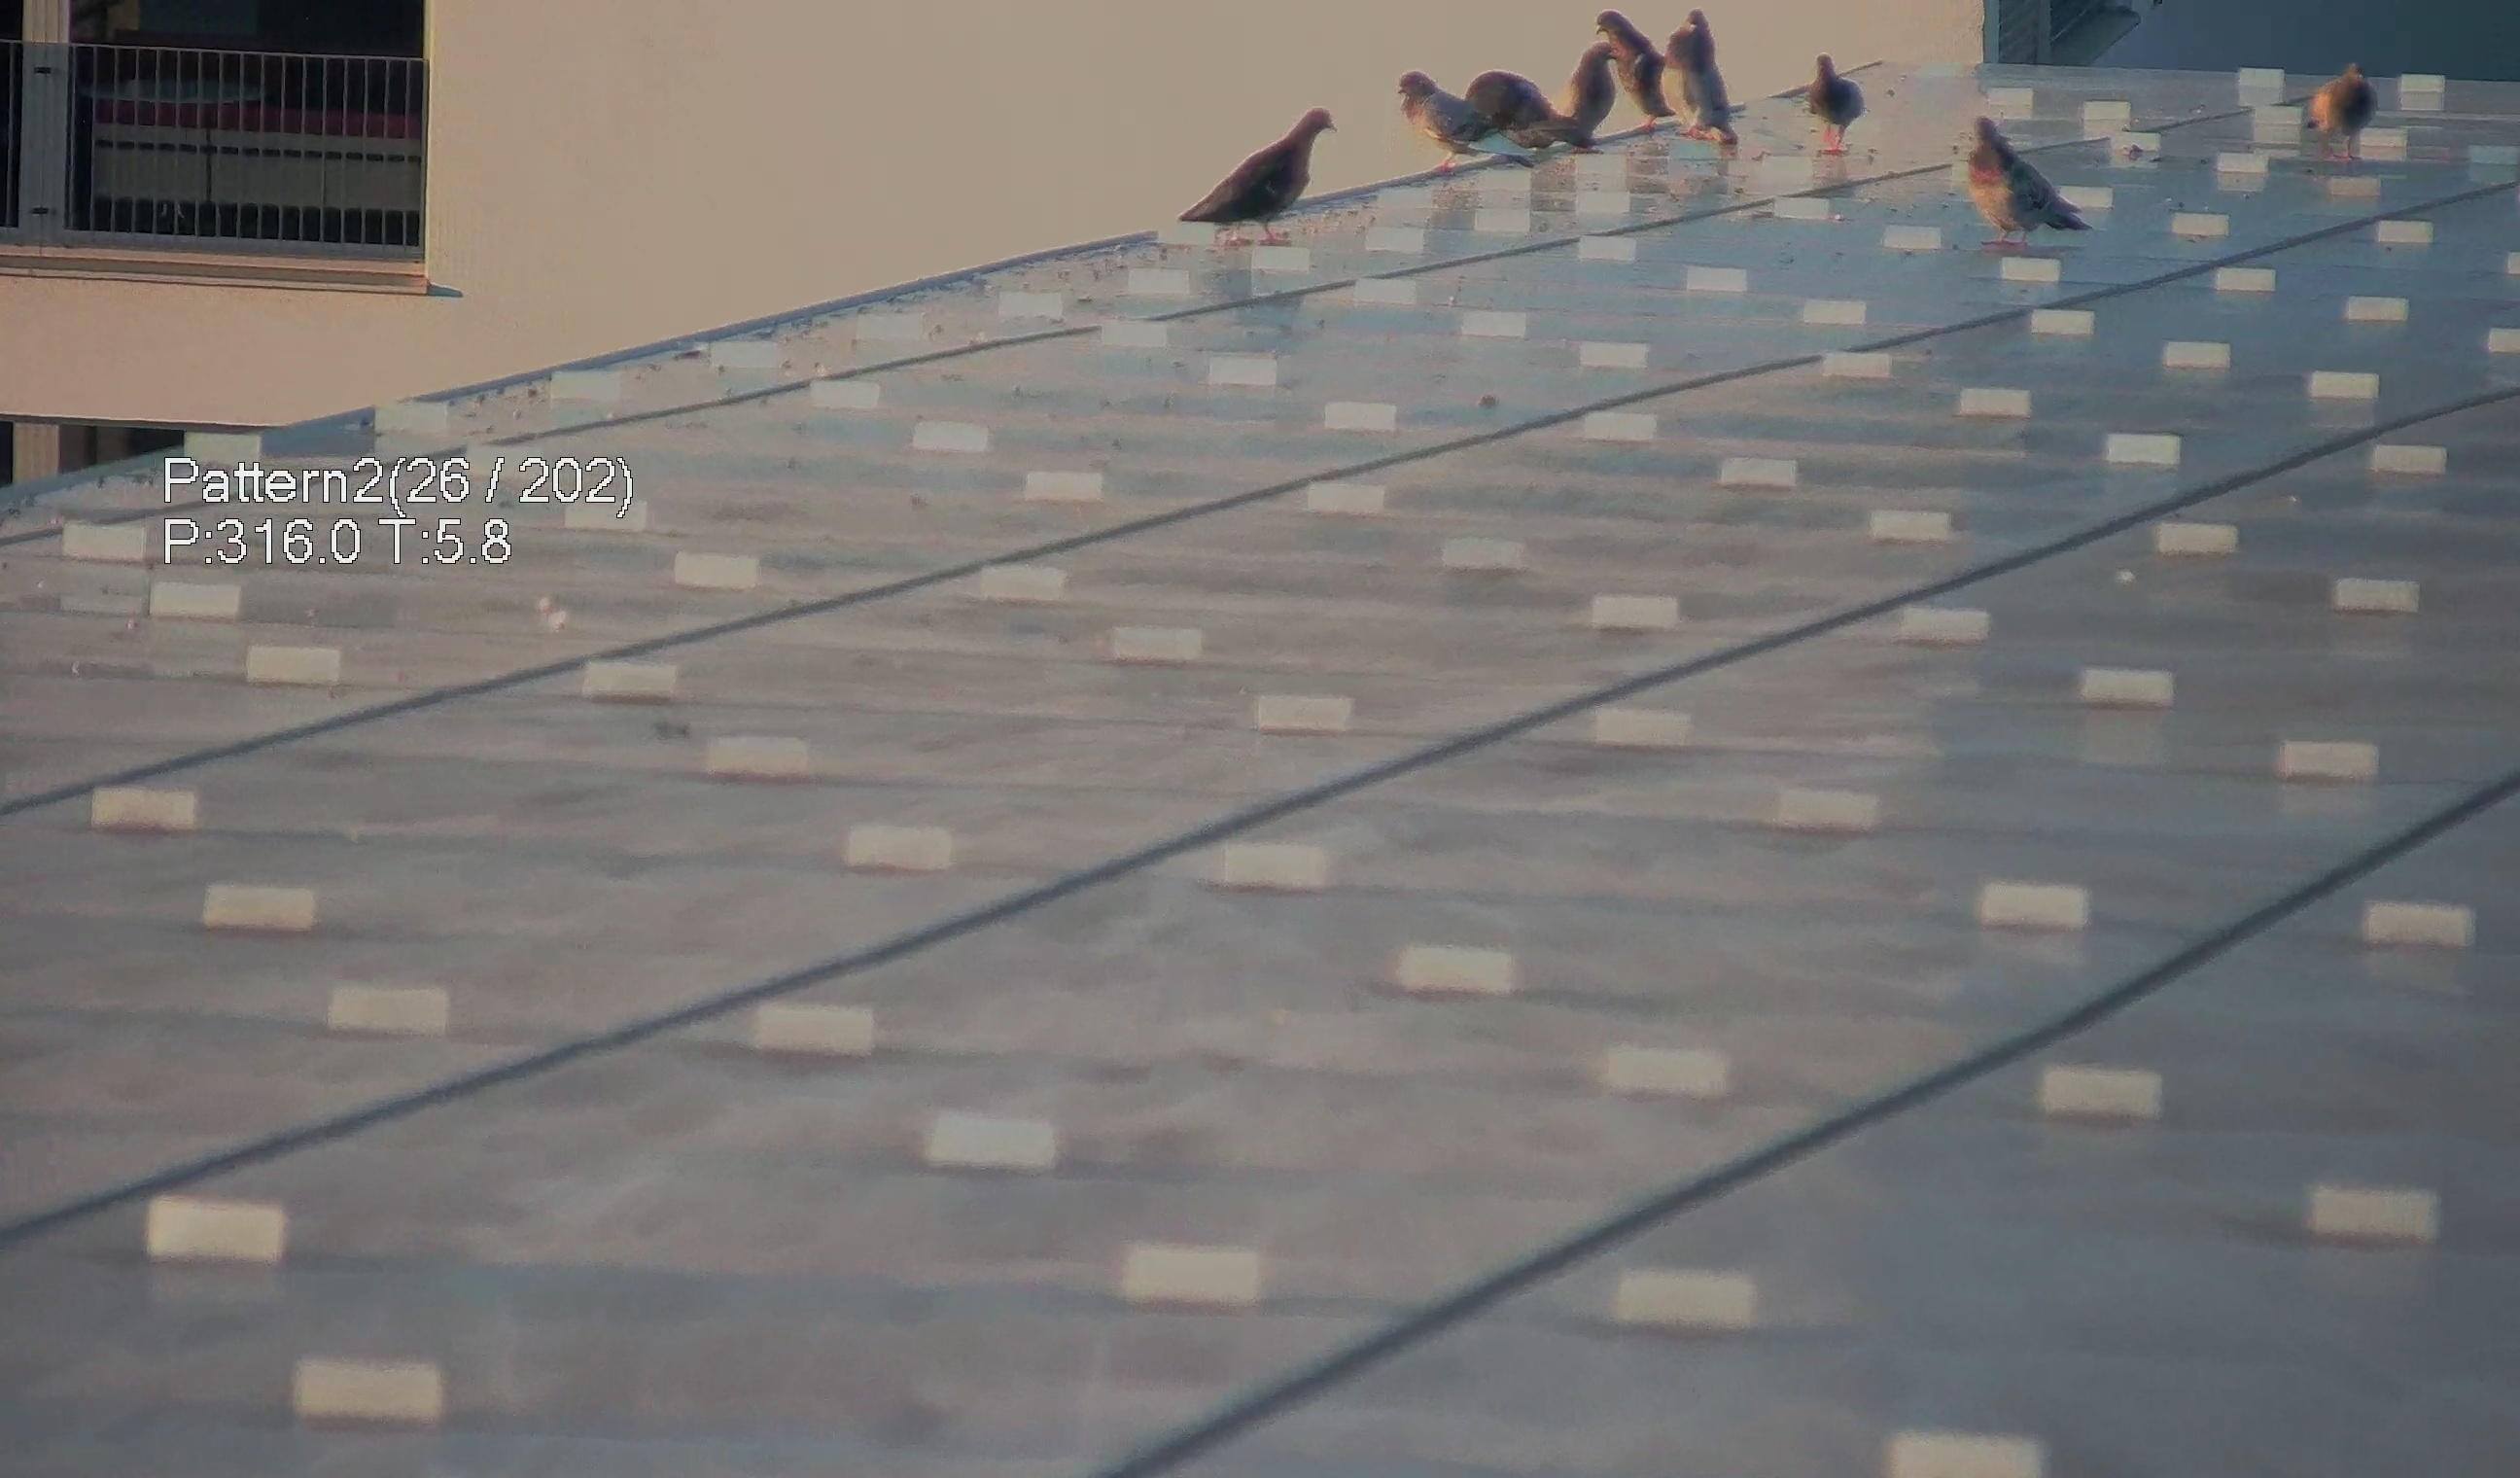Pigeon: (1182, 90, 1342, 232), (1387, 44, 1560, 176), (1970, 100, 2119, 239), (1567, 4, 1685, 146), (1446, 62, 1595, 153), (1660, 4, 1736, 160), (2297, 51, 2400, 153), (1804, 40, 1887, 167)
